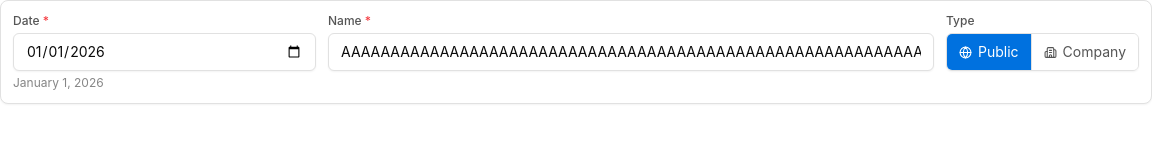
Scenario: HolidayForm › name validation › shows error for name > 100 chars after touch
Click the field with placeholder "e.g., New Year's Day": (631, 52) [328, 33, 934, 71]
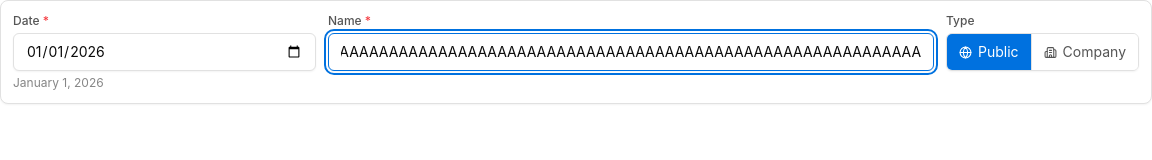
Press Tab
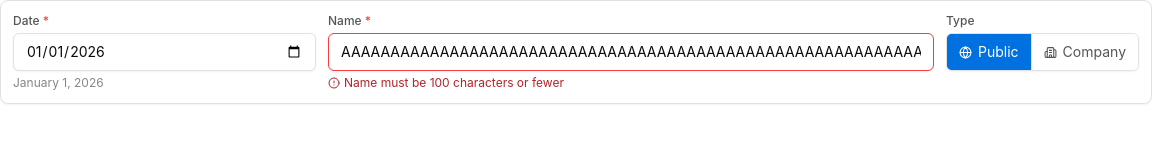
Expected: the text "Name must be 100 characters or fewer" is shown, [328, 75, 564, 90]
